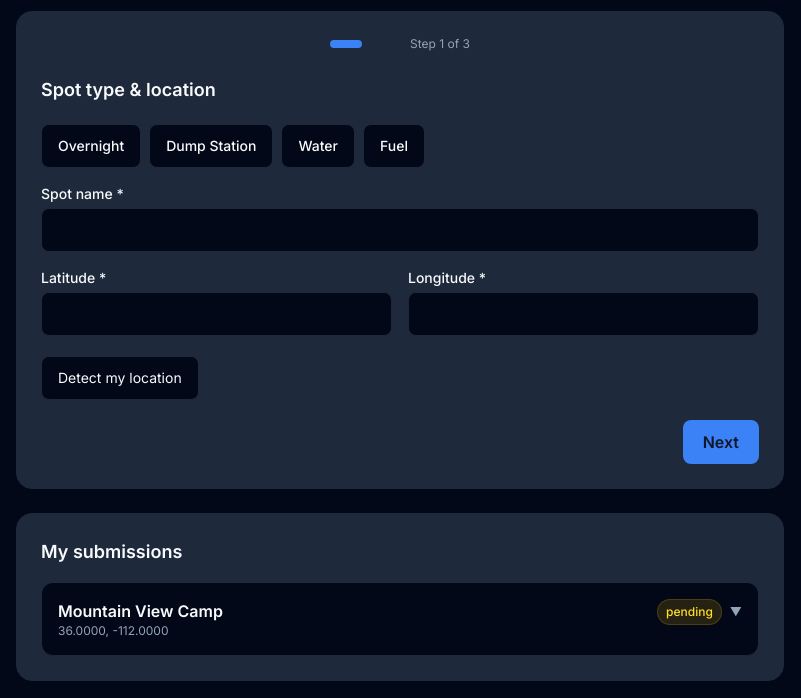
Test: SuggestSpotScreen › collapses expanded submission card on second click
(page scrolled)
Expected: the text "Mountain View Camp" is shown, top-left (58, 599), bottom-right (223, 623)
Click the button "Mountain View Camp": (140, 611) top-left (41, 582), bottom-right (759, 656)
(page scrolled)
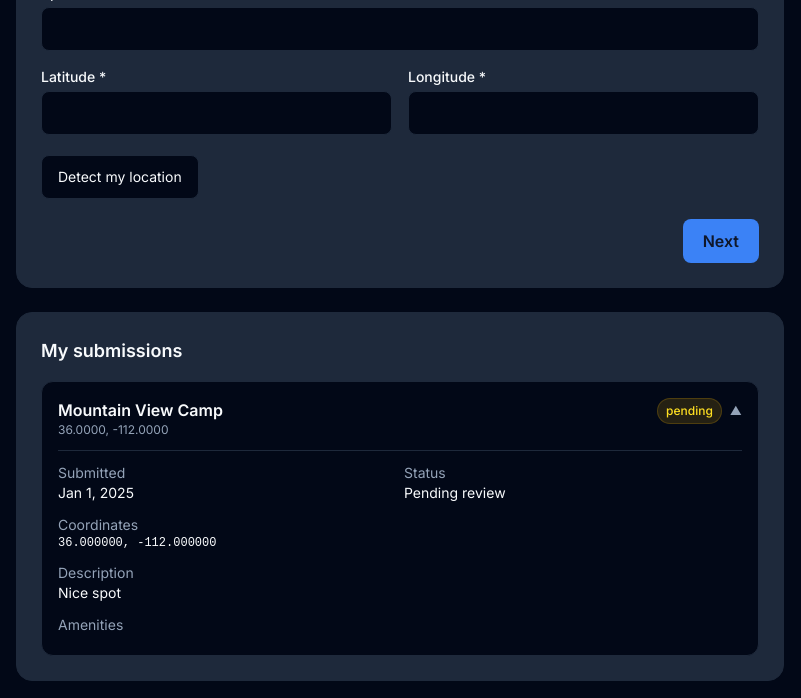
Expected: the text "Nice spot" is shown, top-left (58, 584), bottom-right (121, 601)
// Click again to collapse
Click the button "Mountain View Camp": (400, 518) top-left (41, 381), bottom-right (759, 656)
(page scrolled)
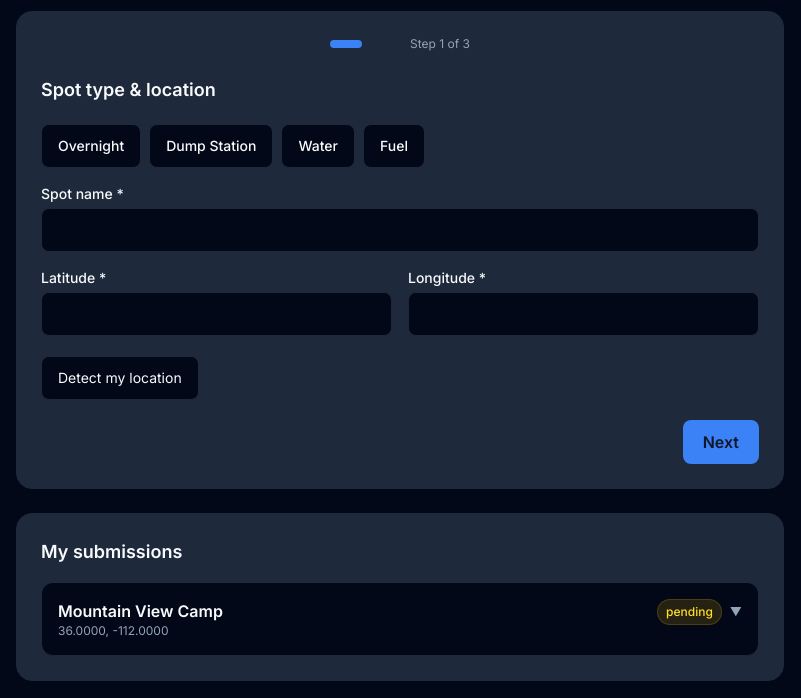
Expected: the text "Nice spot" is gone
